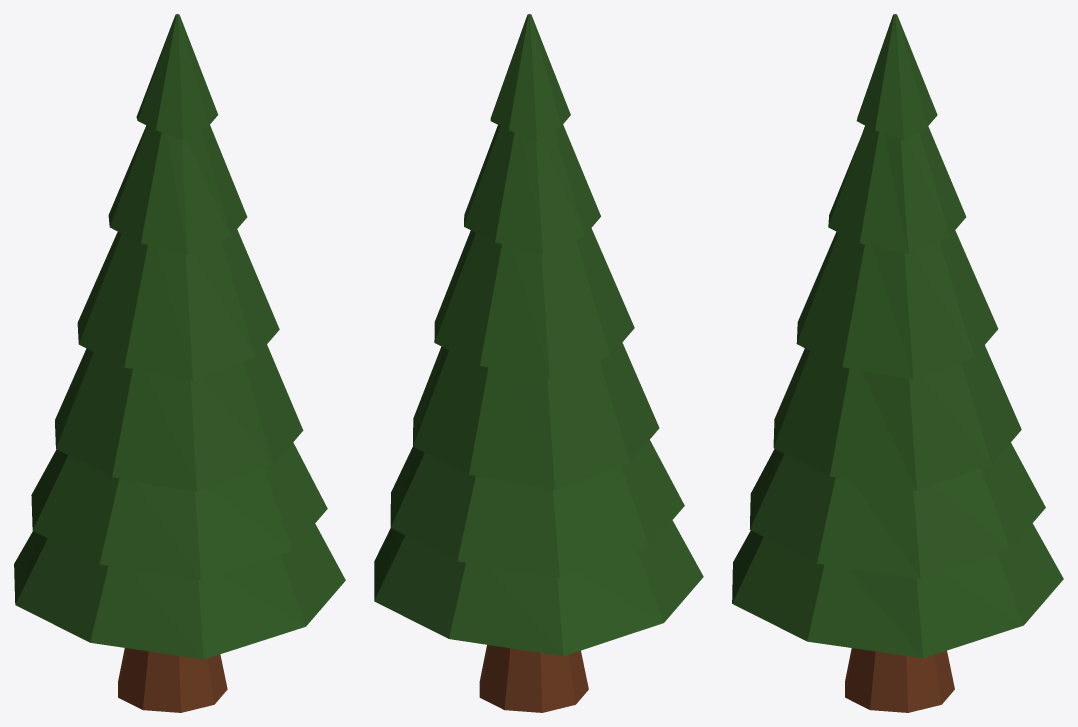
Rendered from tree.dae.
3 renders of one model, left to right at view 1: azimuth 30°, elevation 25°; view 2: azimuth 150°, elevation 25°; view 3: azimuth 270°, elevation 25°, orthographic.
Parts seen in each view (by area): view 1: Cylinder; view 2: Cylinder; view 3: Cylinder.
Part boxes in pixels (left/top/right/bottom): Cylinder: left=14, top=14, right=345, bottom=712; Cylinder: left=374, top=14, right=703, bottom=712; Cylinder: left=732, top=14, right=1063, bottom=712.
Size of the model in its own units: 2.31 by 2.28 by 5.12.
